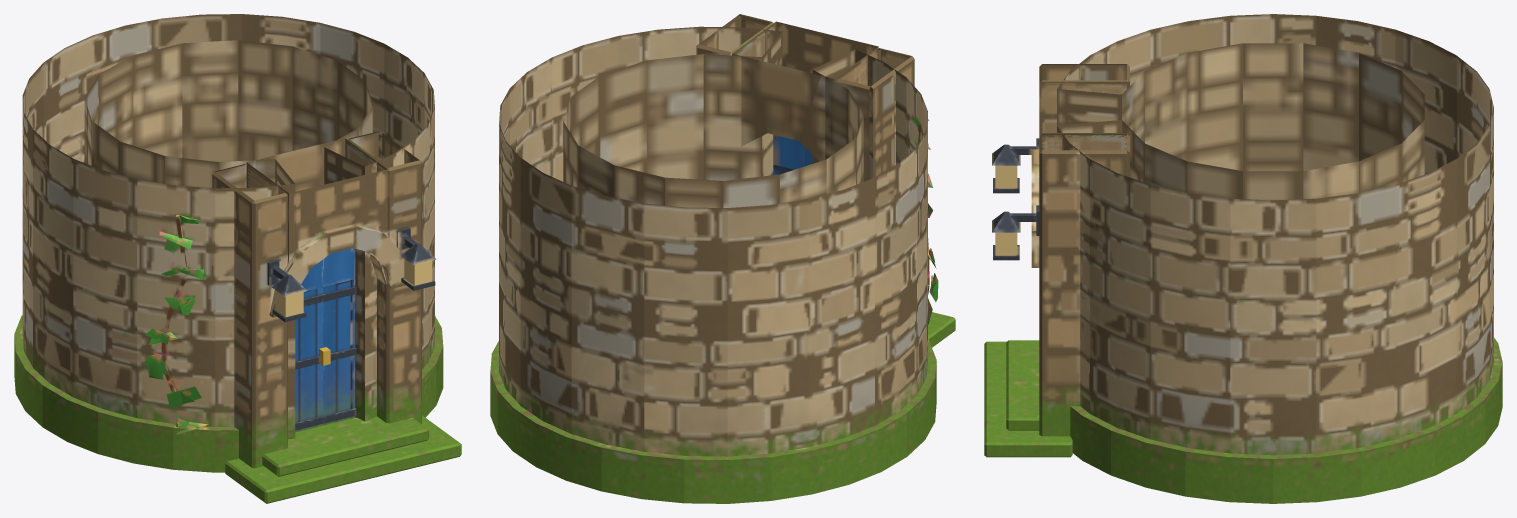
The model's file is Kit_Tower_RingDoor.fbx.
3 renders of one model, left to right at view 1: azimuth 30°, elevation 25°; view 2: azimuth 150°, elevation 25°; view 3: azimuth 270°, elevation 25°, orthographic. The views are drawn at different scales.
Parts seen in each view (by area): view 1: Kit_Tower_RingDoor_LOD0; view 2: Kit_Tower_RingDoor_LOD0; view 3: Kit_Tower_RingDoor_LOD0.
Boxes of the visible parts, box(x1,y1,x2,y2) form: Kit_Tower_RingDoor_LOD0: box(14, 14, 461, 503); Kit_Tower_RingDoor_LOD0: box(490, 14, 955, 503); Kit_Tower_RingDoor_LOD0: box(984, 14, 1502, 503).
Size of what is drawn, in the model's own units: 4.16 by 3 by 4.7.
1 material, 1 textured.
